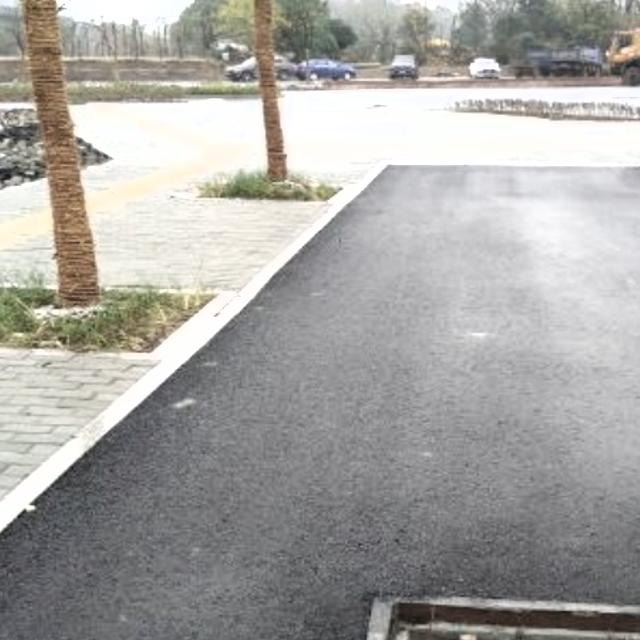broke: (348, 591, 640, 640)
